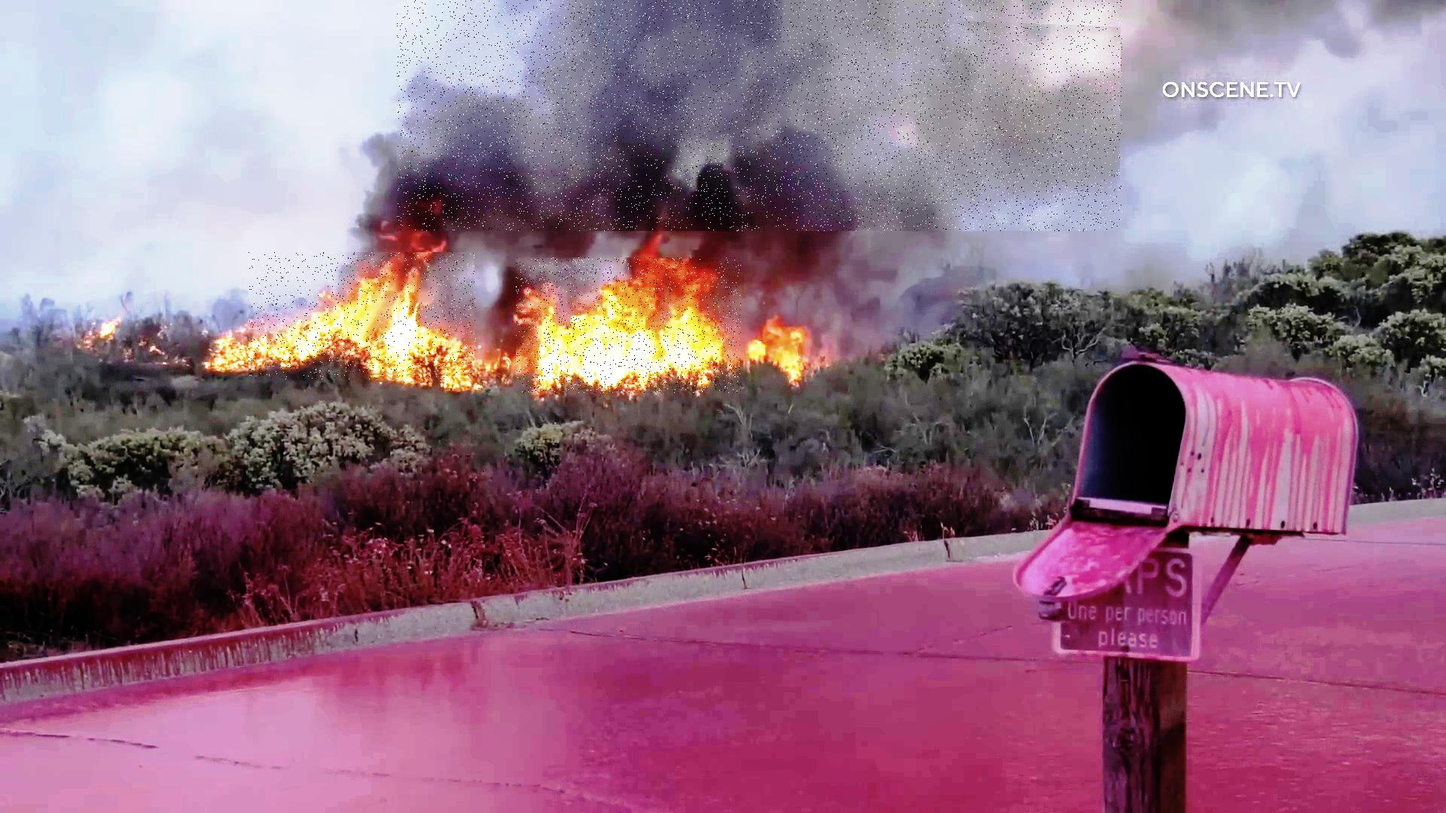fire: (516, 258, 742, 393), (249, 253, 477, 380)
smoke: (398, 0, 1123, 231)
